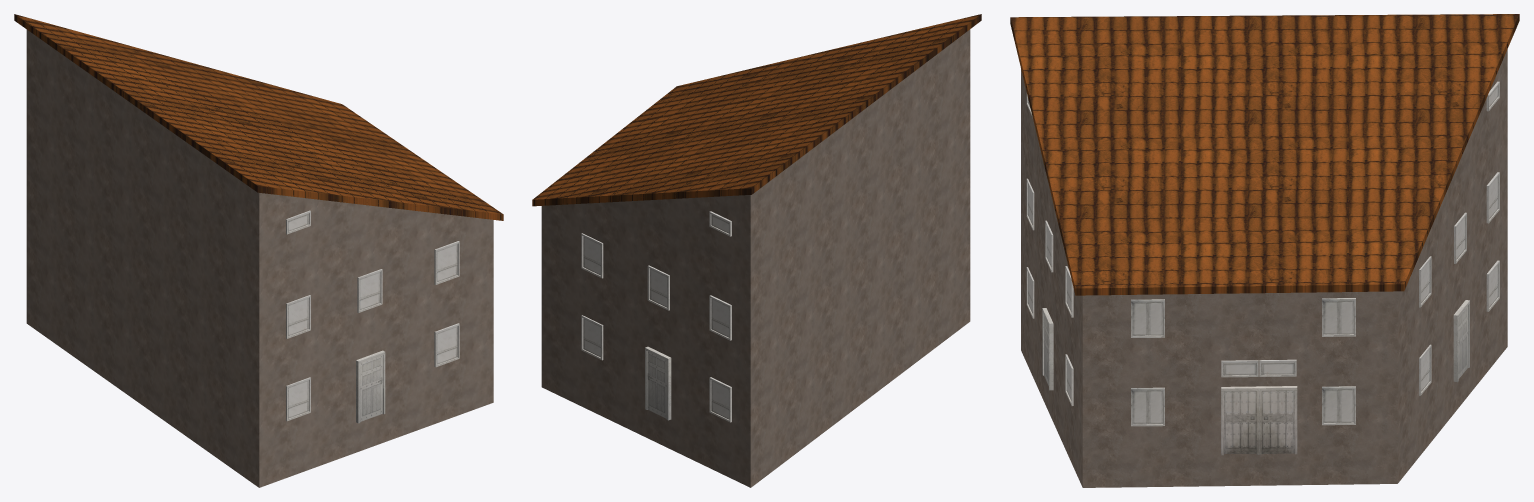
Rendered from Casa_7.fbx.
3 renders of one model, left to right at view 1: azimuth 30°, elevation 25°; view 2: azimuth 150°, elevation 25°; view 3: azimuth 270°, elevation 25°, orthographic. The views are drawn at different scales.
Visible parts, largest first — view 1: Casa_7; view 2: Casa_7; view 3: Casa_7.
Part boxes in pixels (left/top/right/bottom): Casa_7: left=14, top=14, right=503, bottom=487; Casa_7: left=532, top=14, right=981, bottom=487; Casa_7: left=1010, top=14, right=1519, bottom=487.
Size of the model in its own units: 9.57 by 9.94 by 13.91.
